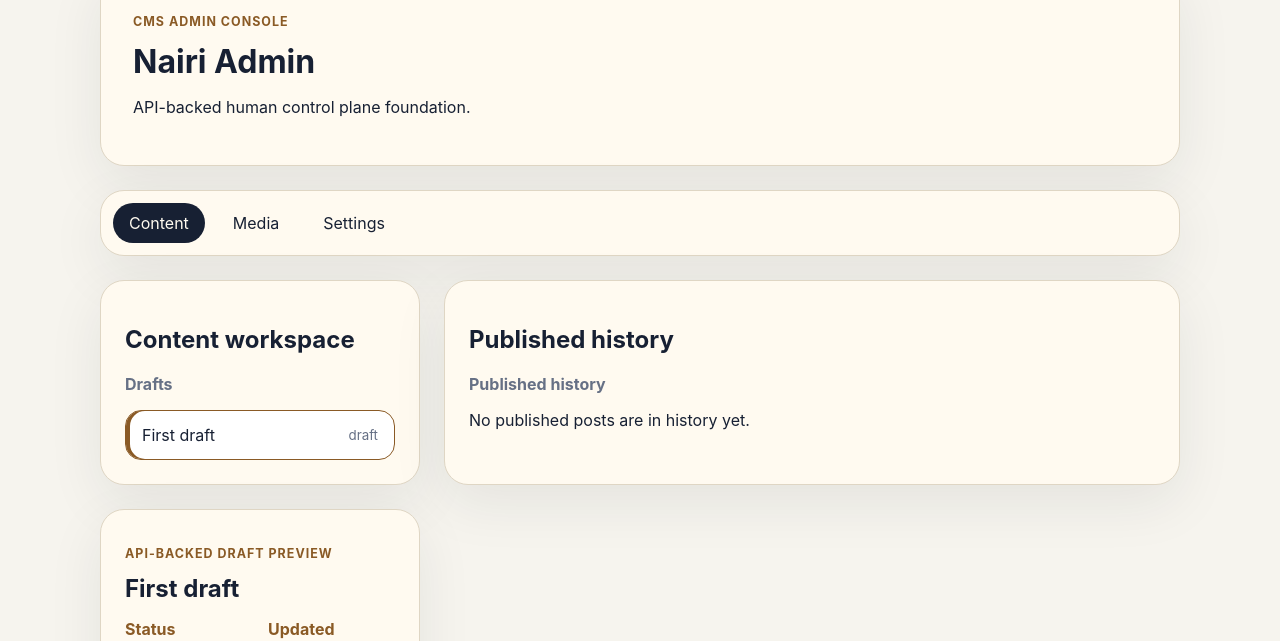
Scenario: Nairi admin console shell › renders a safe edit error state when injected update fails
Click the button "First draft draft": click(178, 435) [125, 410, 395, 460]
(page scrolled)
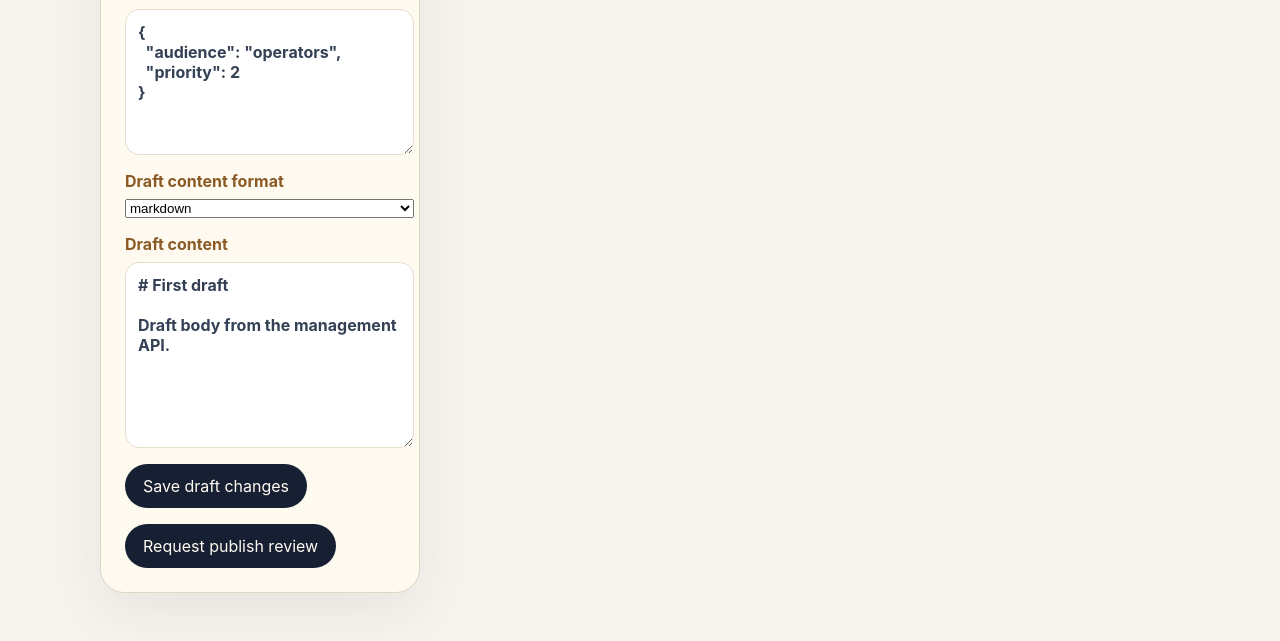
Click the button "Save draft changes": click(216, 486) [125, 464, 307, 508]
(page scrolled)
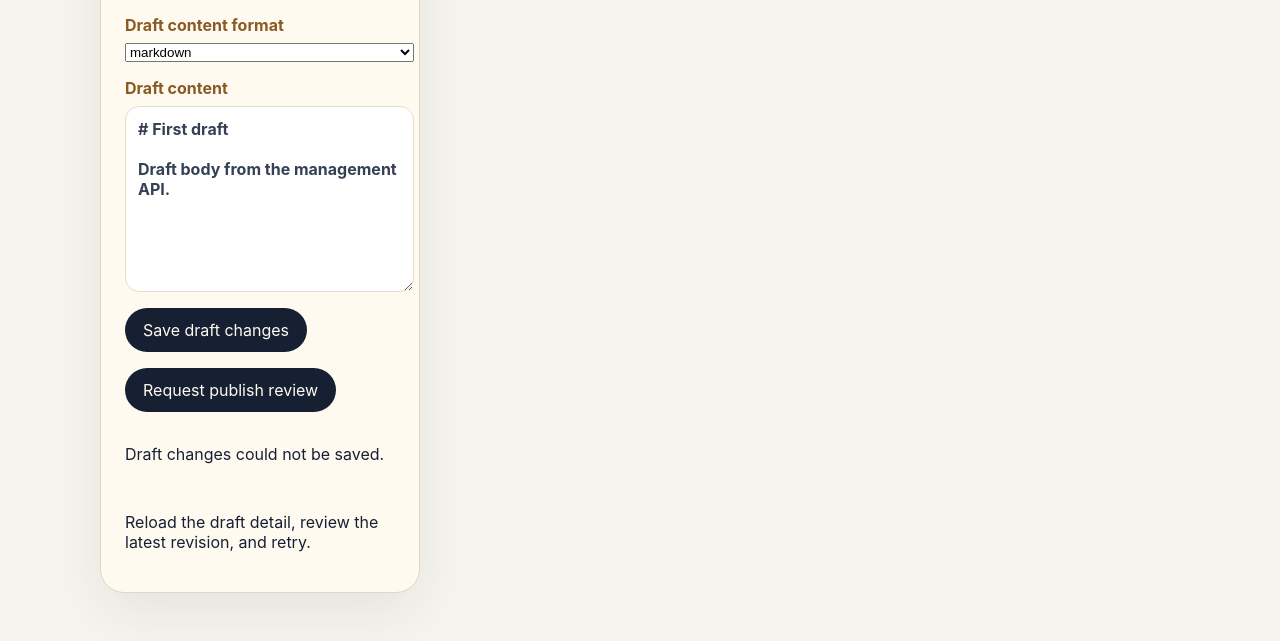
Now the text "Draft changes could not be saved." is shown, box [125, 444, 414, 464]
Now the text "Reload the draft detail, review the latest revision, and retry." is shown, box [125, 512, 414, 552]
